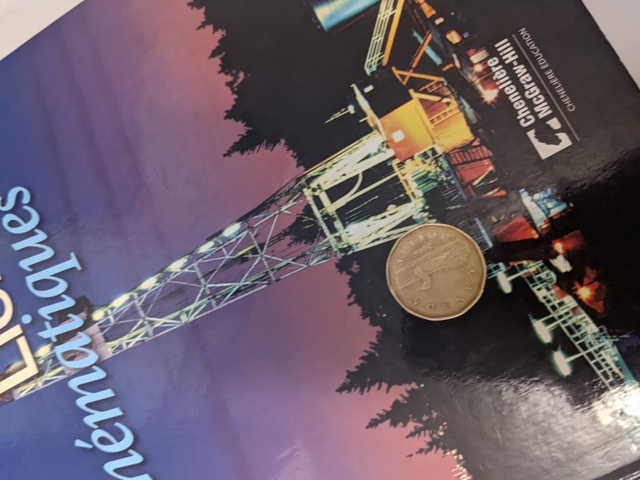loonie: (382, 213, 495, 320)
